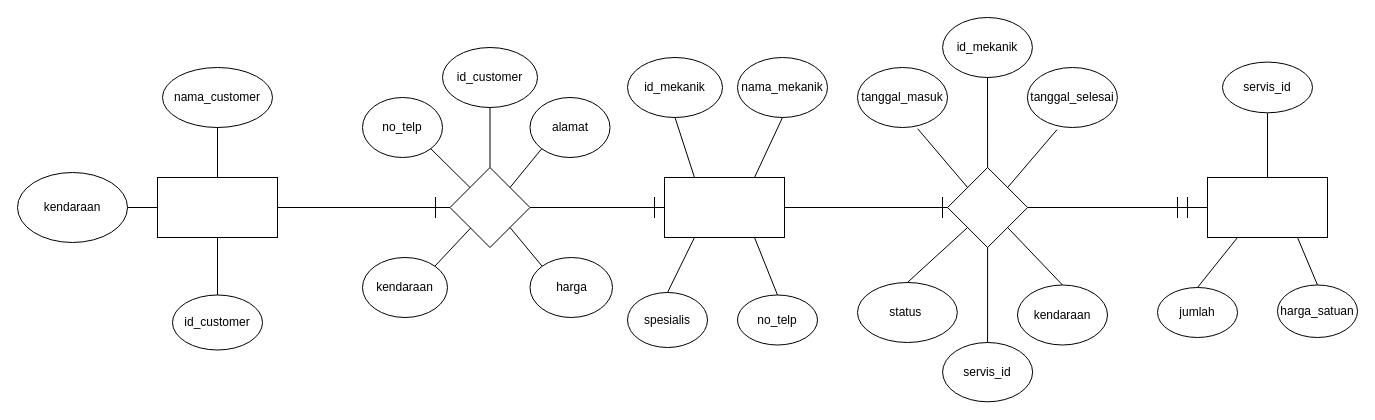
The diagram is 1375 pixels wide and 420 high, and some of its shapes have lost their labels. The shapes that lost their labels are listed below. From the top down, each one's centre as x and y in pixels, then its label:
At [217,207]: "customer".
At [489,207]: "booking".
At [724,207]: "mekanik".
At [987,207]: "servis".
At [1267,207]: "detail servis".
